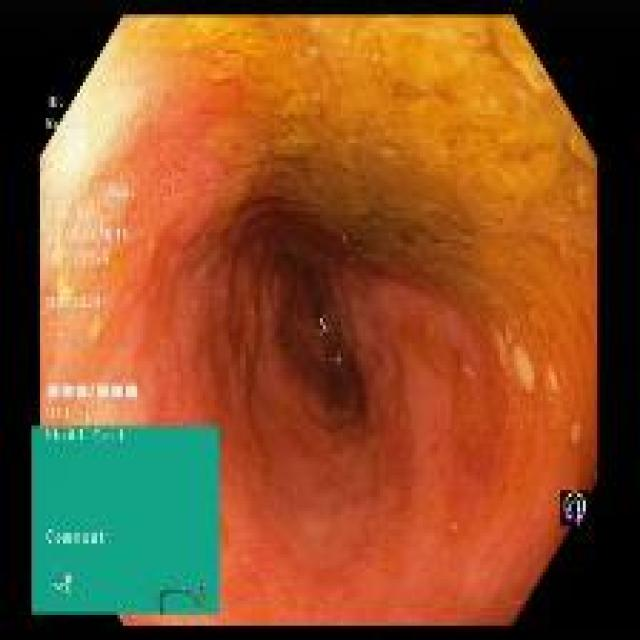ulcerative-colitis: (40, 17, 598, 623)
